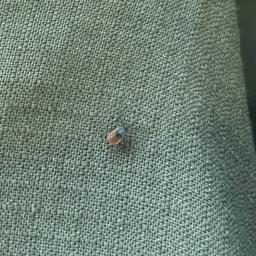Ixodes scapularis: (105, 117, 137, 151)
